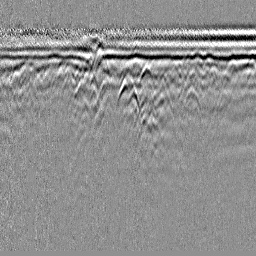cavity: (115, 71, 140, 115)
